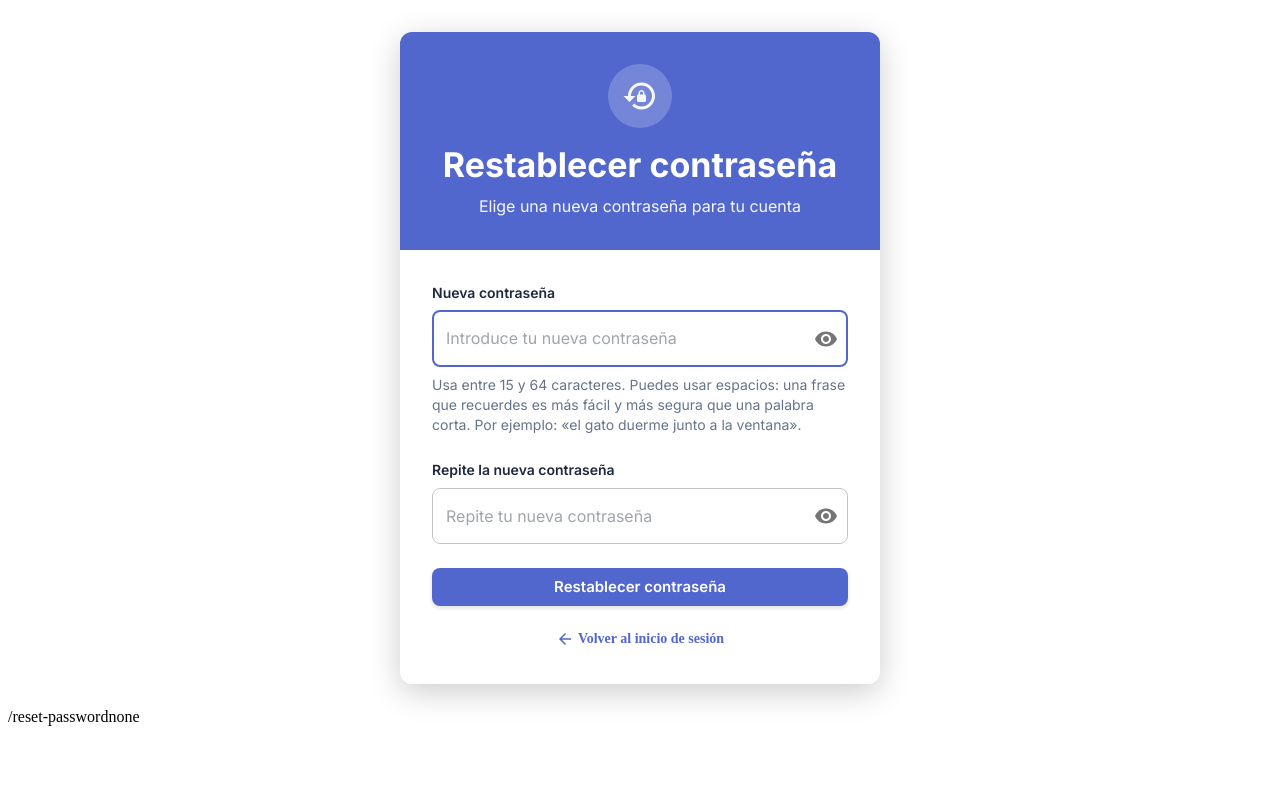
Test: the reset link (AC3) › sends the fragment's token, clears the address bar, and keeps both secrets out of storage and logs
Clear the password field labelled "Repite la nueva contraseña" at (615, 516), box [432, 488, 798, 544]
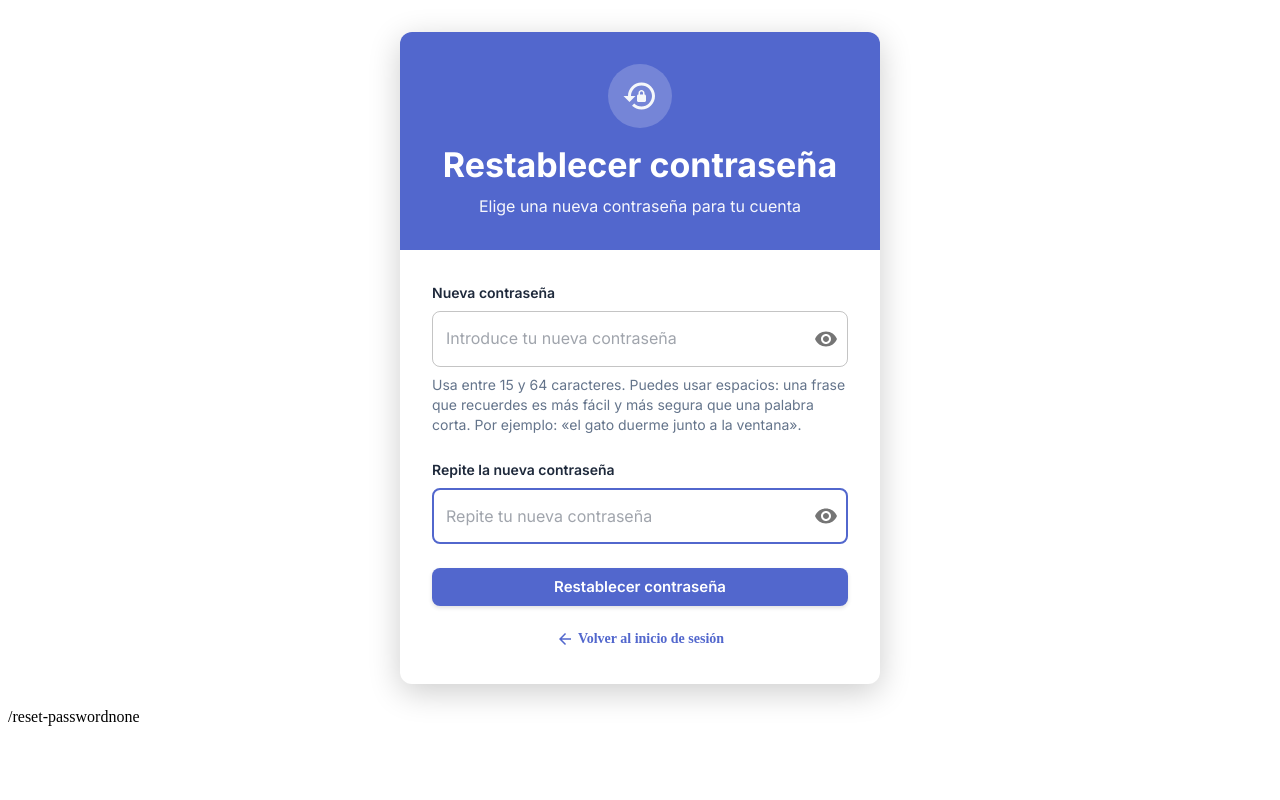
Click the password field labelled "Nueva contraseña" at (615, 339), box [432, 311, 798, 367]
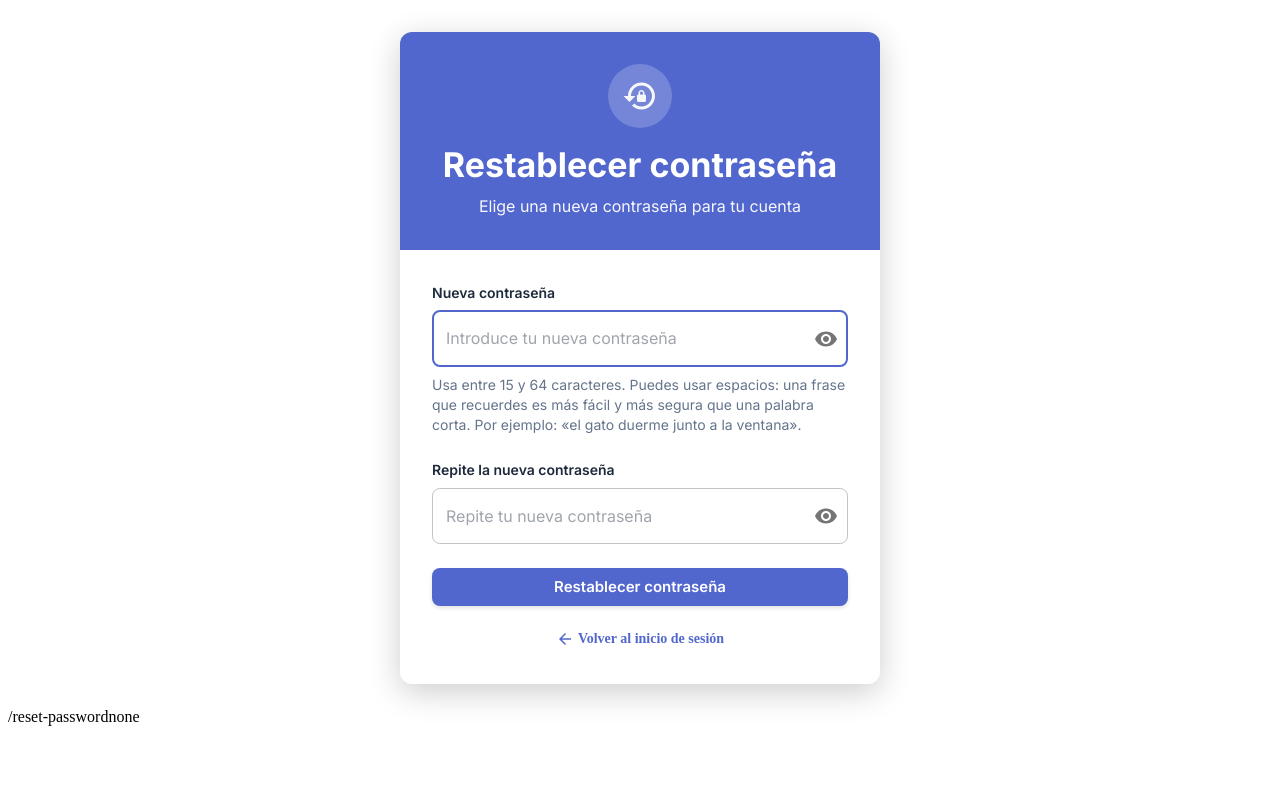
Type keys "el gato duerme junto a la ventana"
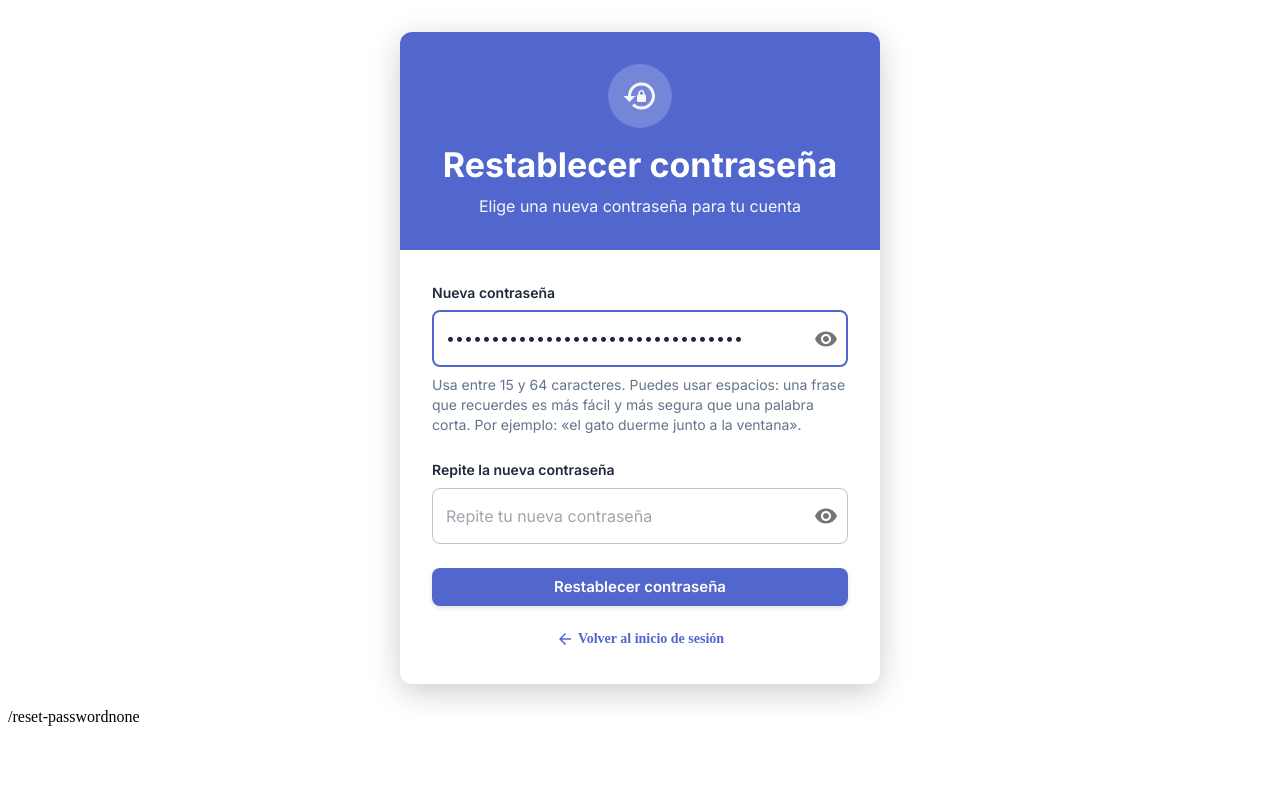
Click the password field labelled "Repite la nueva contraseña" at (615, 516), box [432, 488, 798, 544]
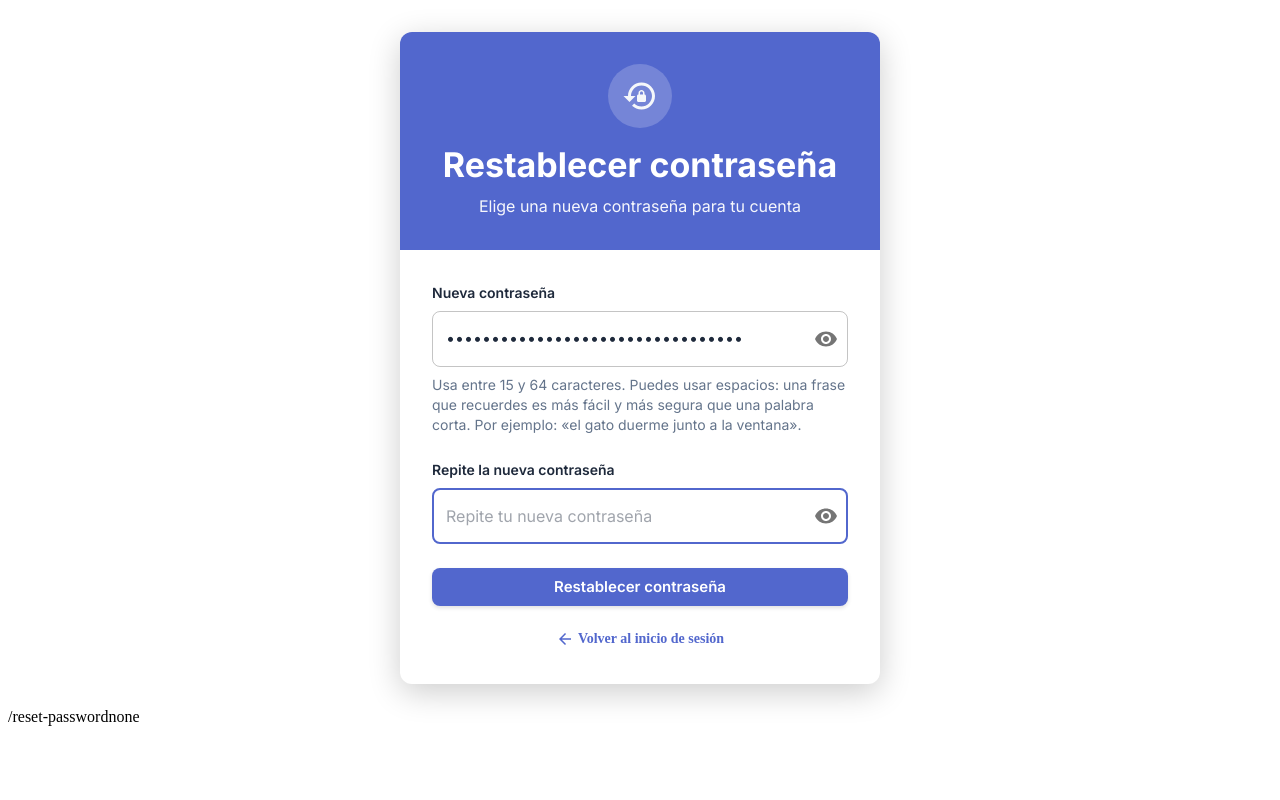
Type keys "el gato duerme junto a la ventana"
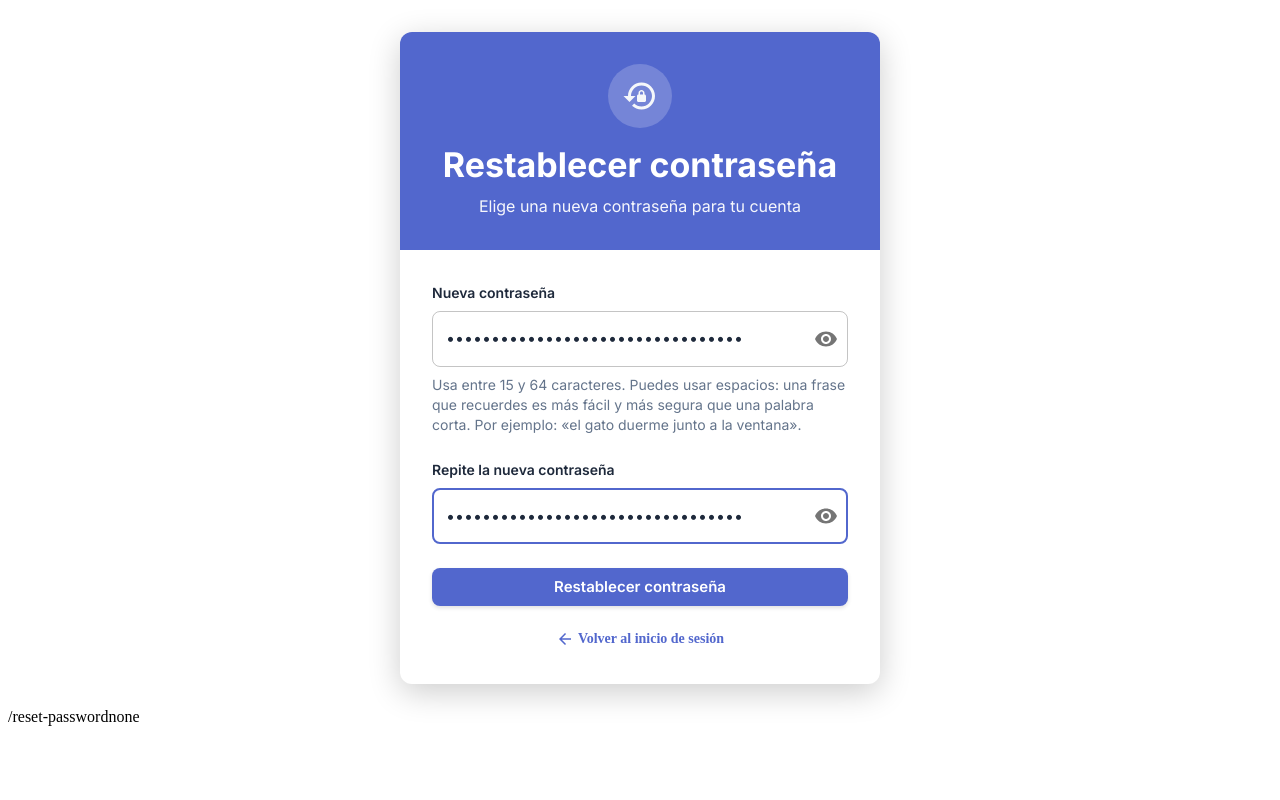
Click the button "Restablecer contraseña" at (640, 587), box [432, 568, 848, 606]
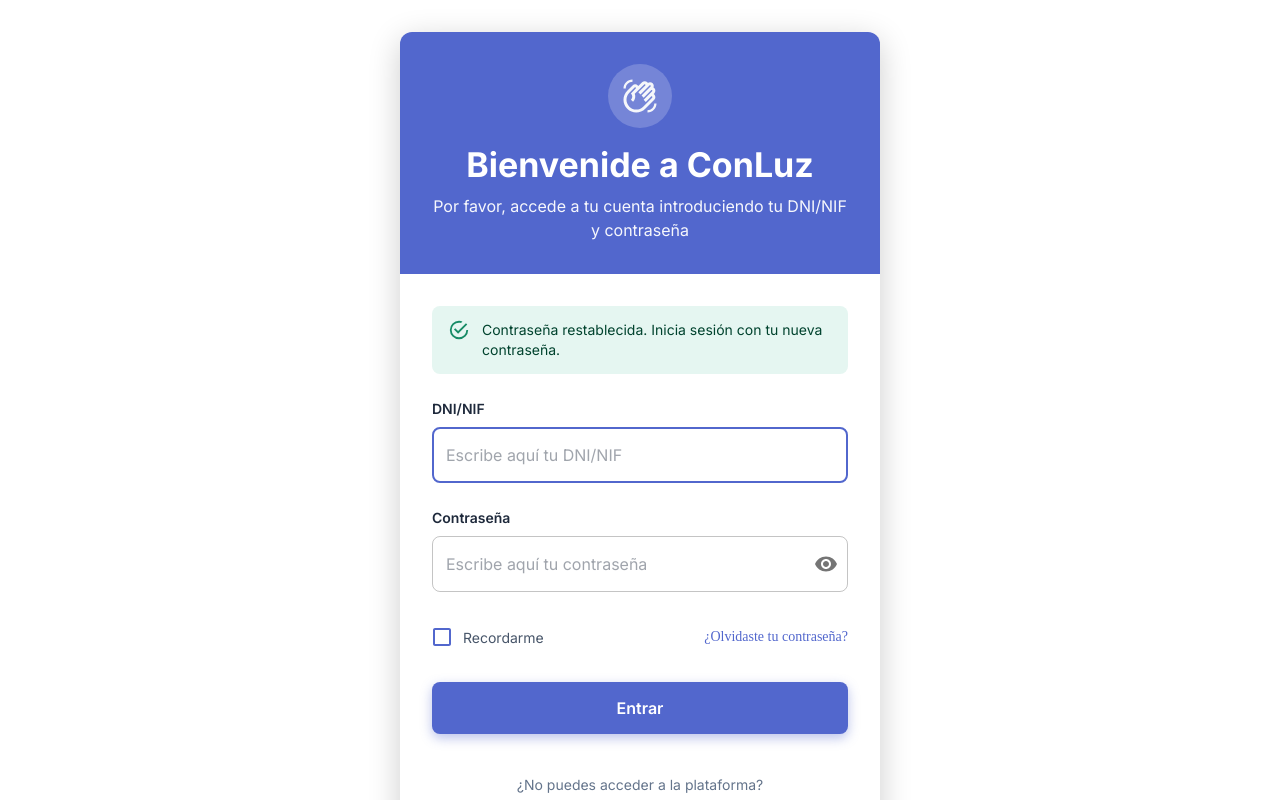
Result: the heading "Bienvenide a ConLuz" is shown at [466, 144, 814, 185]
